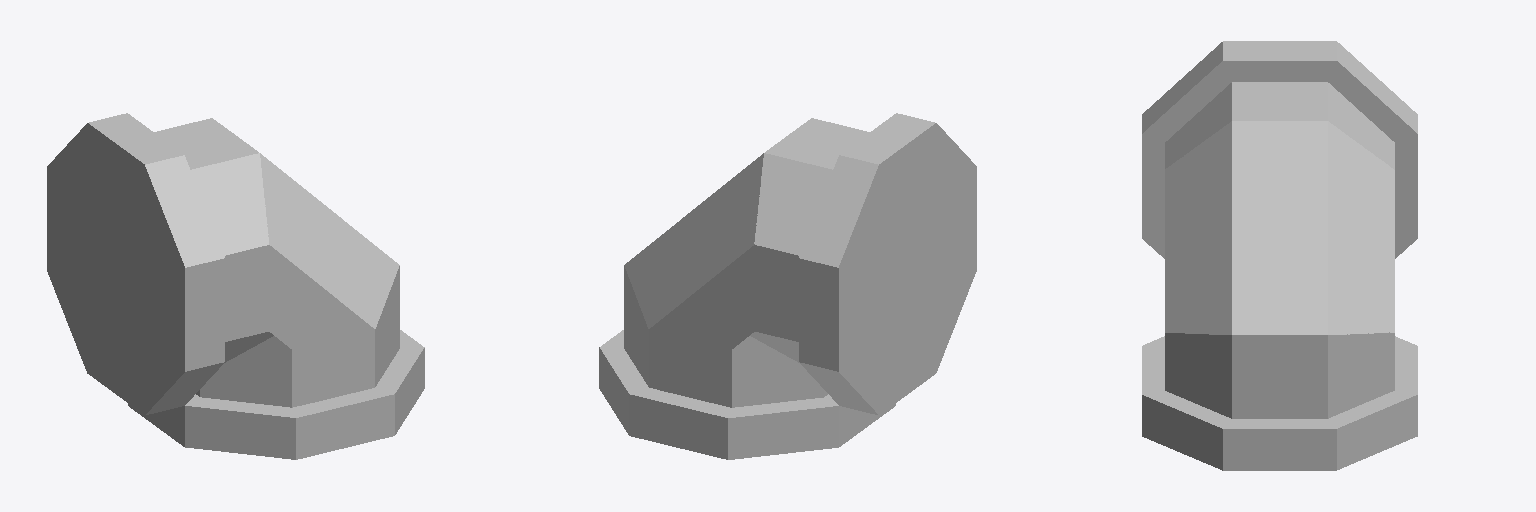
The model's file is mt_pipe_l_parts.obj.
3 renders of one model, left to right at view 1: azimuth 30°, elevation 25°; view 2: azimuth 150°, elevation 25°; view 3: azimuth 270°, elevation 25°, orthographic.
Visible parts, largest first — view 1: octagon.002, octagon.013, octagon.000, octagon, octagon.018, octagon.014, octagon.009, octagon.001, octagon.016, octagon.006, octagon.003, octagon.010 (+5 smaller); view 2: octagon.002, octagon.000, octagon.012, octagon, octagon.014, octagon.015, octagon.007, octagon.001, octagon.016, octagon.006, octagon.005, octagon.010 (+5 smaller); view 3: octagon.011, octagon.013, octagon.012, octagon.004, octagon.017, octagon, octagon.018, octagon.001, octagon.005, octagon.003, octagon.015, octagon.002 (+5 smaller).
Part boxes in pixels (bbox=[...]): octagon.002: bbox=[47, 155, 224, 373]; octagon.013: bbox=[260, 153, 399, 328]; octagon.000: bbox=[47, 123, 224, 414]; octagon: bbox=[47, 168, 224, 371]; octagon.018: bbox=[185, 394, 303, 459]; octagon.014: bbox=[269, 246, 373, 349]; octagon.009: bbox=[191, 153, 268, 255]; octagon.001: bbox=[88, 113, 183, 414]; octagon.016: bbox=[296, 382, 394, 459]; octagon.006: bbox=[292, 329, 374, 407]; octagon.003: bbox=[200, 336, 291, 407]; octagon.010: bbox=[225, 245, 269, 341]; octagon.002: bbox=[799, 123, 976, 414]; octagon.000: bbox=[799, 155, 976, 372]; octagon.012: bbox=[624, 153, 763, 328]; octagon: bbox=[799, 168, 976, 371]; octagon.014: bbox=[650, 245, 754, 349]; octagon.015: bbox=[728, 399, 838, 459]; octagon.007: bbox=[754, 153, 832, 255]; octagon.001: bbox=[840, 113, 935, 414]; octagon.016: bbox=[629, 391, 744, 459]; octagon.006: bbox=[649, 329, 731, 407]; octagon.005: bbox=[732, 336, 823, 407]; octagon.010: bbox=[754, 245, 798, 341]; octagon.011: bbox=[1232, 121, 1327, 334]; octagon.013: bbox=[1165, 121, 1231, 334]; octagon.012: bbox=[1328, 121, 1394, 334]; octagon.004: bbox=[1232, 335, 1327, 418]; octagon.017: bbox=[1223, 415, 1336, 470]; octagon: bbox=[1142, 134, 1417, 237]; octagon.018: bbox=[1143, 336, 1417, 469]; octagon.001: bbox=[1223, 41, 1336, 89]; octagon.005: bbox=[1165, 333, 1231, 418]; octagon.003: bbox=[1328, 332, 1394, 418]; octagon.015: bbox=[1142, 336, 1416, 470]; octagon.002: bbox=[1142, 42, 1417, 258].
Bounding box in the file's own units: 0.8756 × 0.875 × 0.75.